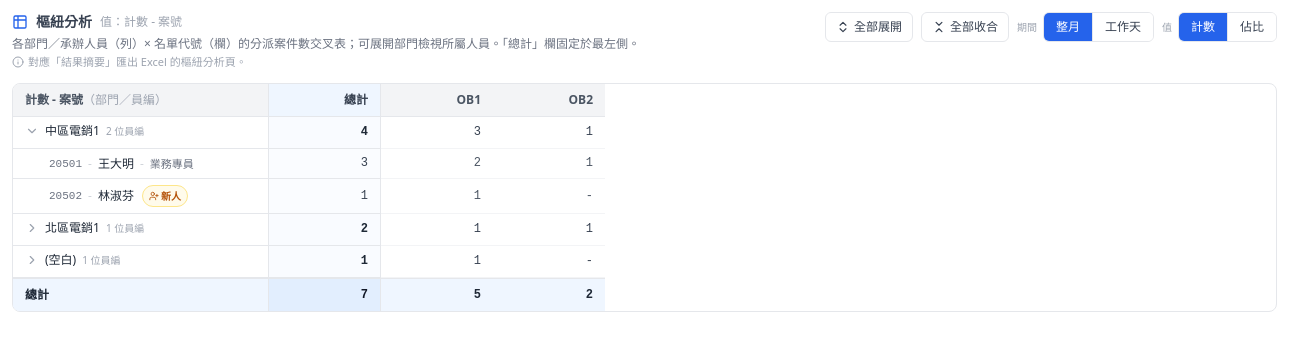
Test case: SnapshotPivotView — F116 v1.1（US-182） › AC-8：職稱／新人標註之邊界情境 › TS-F116-034：「(空白)」分組員編列不顯示職稱與新人標註，計數仍正常顯示
// 「(空白)」為第 3 個部門，v1.0 既有行為僅第一部門預設展開，故先展開之
Click the row with test id "pivot-dept-(空白)" at (309, 262), box [13,246,605,278]
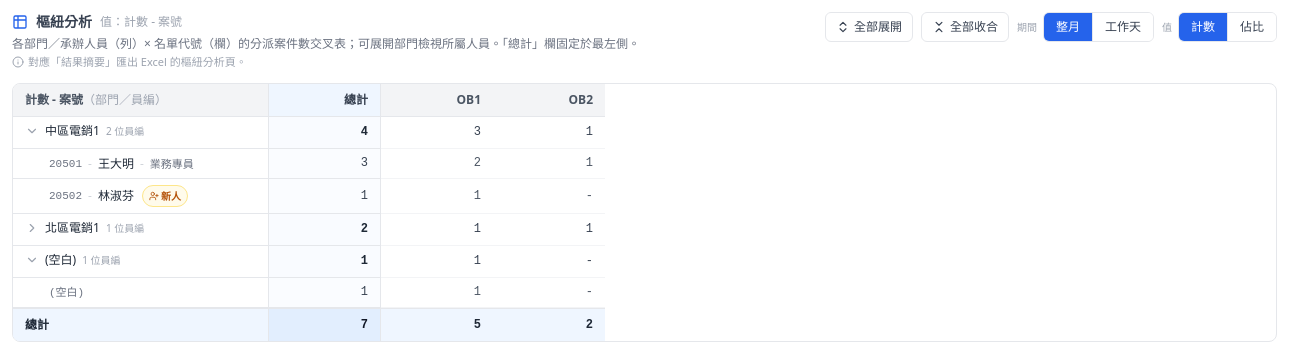
expect the row with test id "pivot-emp-(空白)" is shown: met, box [13,278,605,308]
expect the 9th text "1" is shown: met, box [269,278,381,308]
